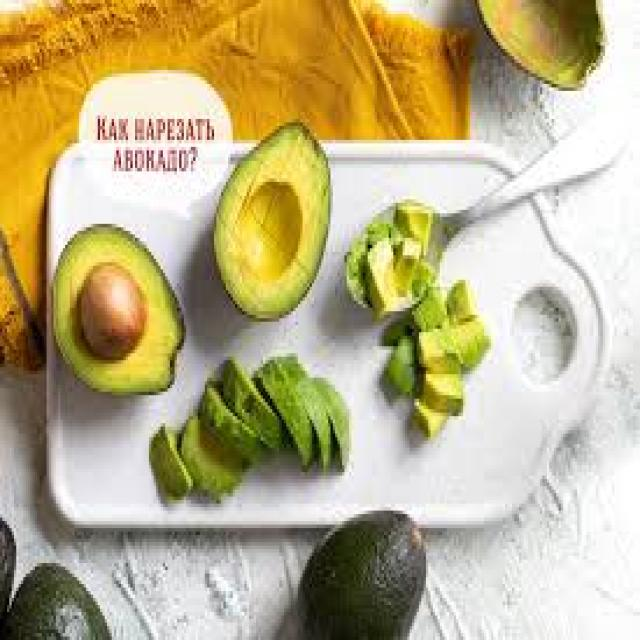avocado: (110, 327, 368, 498), (344, 186, 489, 444), (32, 210, 181, 406), (202, 133, 344, 331)
